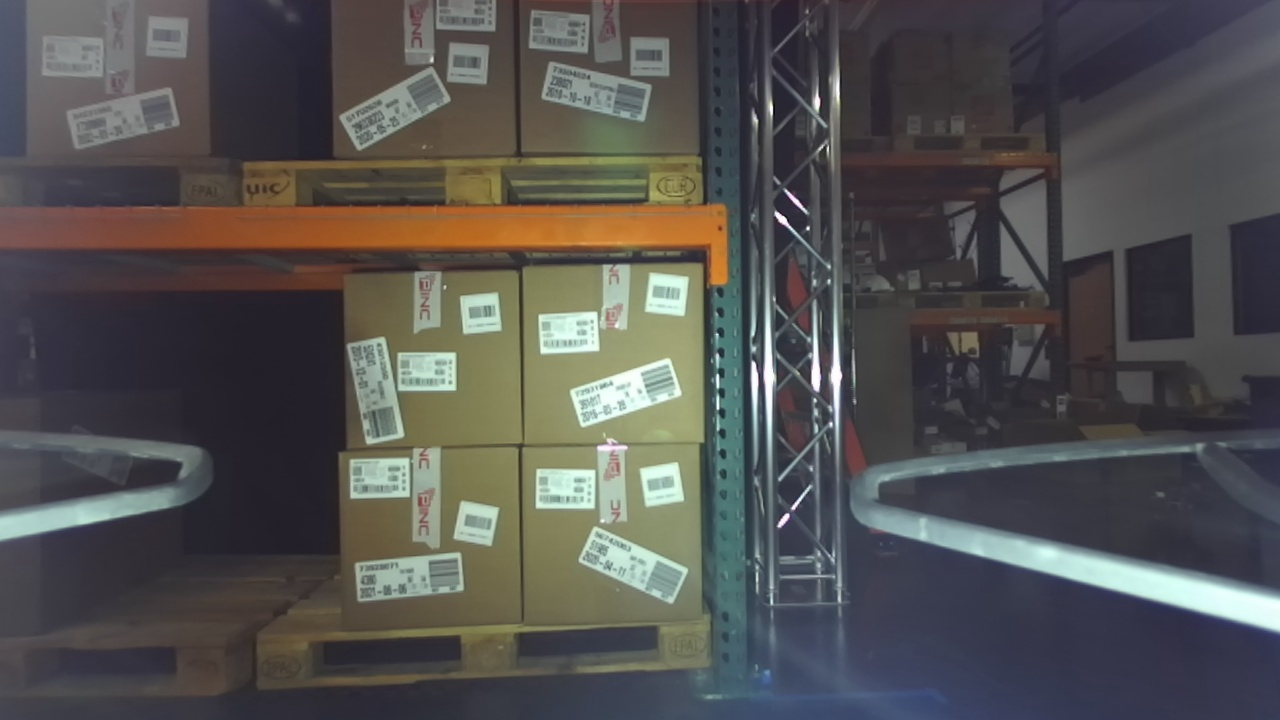box: (314, 439, 532, 649), (512, 248, 722, 460), (326, 255, 534, 455), (316, 1, 534, 176), (8, 1, 226, 170), (500, 1, 713, 169)
